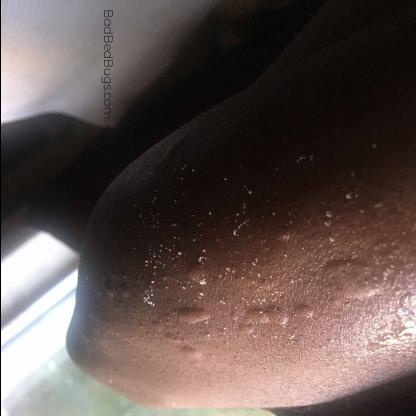Bed Bug: (323, 252, 381, 310), (236, 302, 314, 338), (158, 330, 202, 361), (96, 275, 134, 303), (170, 304, 212, 326), (182, 258, 206, 286), (272, 222, 292, 246)
